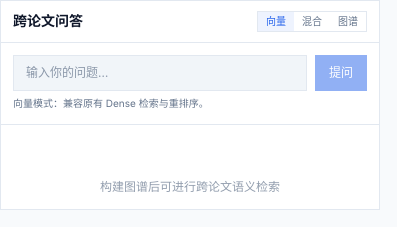
Test case: non workflow integrity › blocks repeated Enter and click while a RAG request is pending
In the field named "跨论文问答输入": (160, 73) top-left (13, 55), bottom-right (307, 91), type "Question"
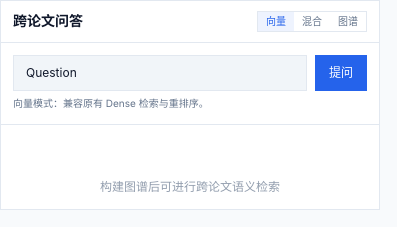
Press Enter in the field named "跨论文问答输入", box top-left (13, 55), bottom-right (307, 91)
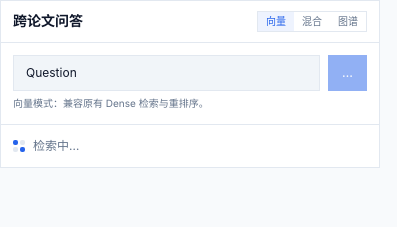
Press Enter in the field named "跨论文问答输入", box top-left (13, 55), bottom-right (320, 91)
Click the button "…": click(348, 73) top-left (328, 55), bottom-right (367, 91)
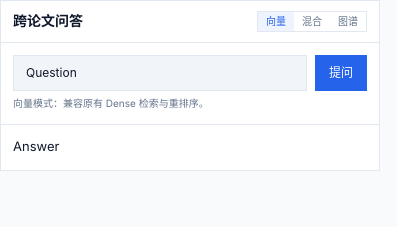
Expected: the text "Answer" is shown, top-left (13, 139), bottom-right (59, 155)
